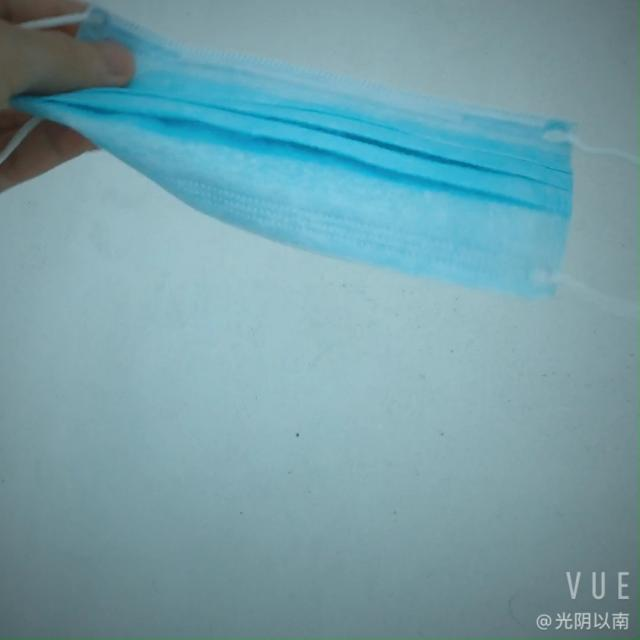face mask: (16, 0, 574, 287)
